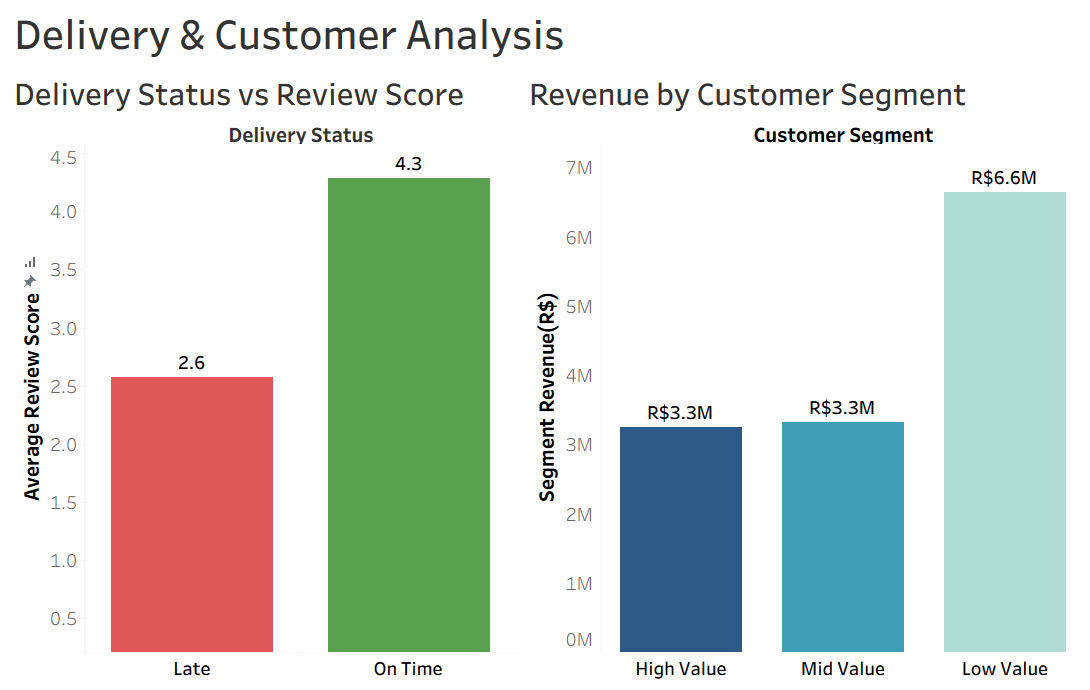

This screenshot's page, from the dashboard's own definition file:
{"tool":"tableau","page":{"name":"Delivery & Customer Analysis","canvas":[1100,700],"ordinal":0},"visuals":[{"type":"title","box":[8,8,1084,46]},{"type":"worksheet","title":"Delivery Status vs Review Score","mark":"Bar","rows":["avg_review_score"],"cols":["delivery_status"],"box":[8,54,515.5,638]},{"type":"worksheet","title":"Revenue by customer segment","mark":"Automatic","rows":["segment_revenue"],"cols":["customer_segment"],"box":[523.5,54,568.5,638]}]}

Visuals, with their boxes in screenshot pixels (x1, y1, x2, y2), scaled from the page's 1100x700 canvas onto the 1090x690 screenshot:
title: Rect(8, 8, 1082, 53)
"Delivery Status vs Review Score" worksheet (Bar marks): Rect(8, 53, 519, 682)
"Revenue by customer segment" worksheet: Rect(519, 53, 1082, 682)
